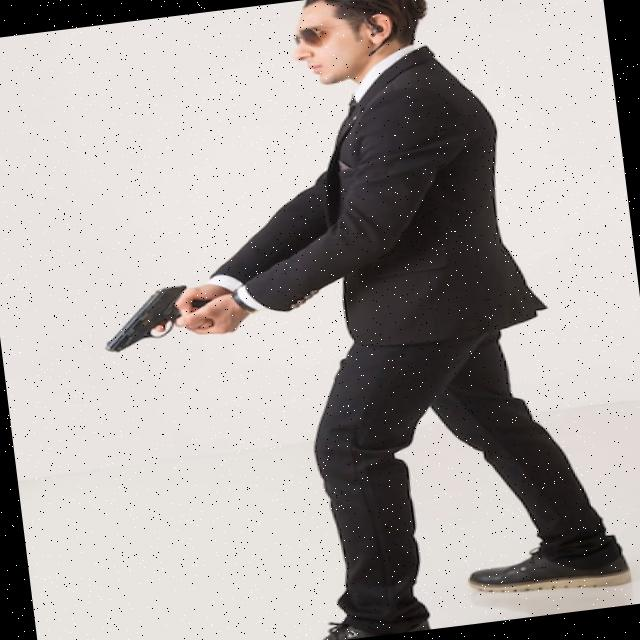Person: (139, 0, 630, 640)
